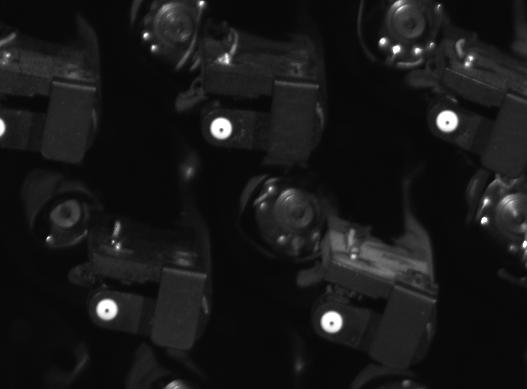fiber: (313, 303, 349, 339), (205, 113, 243, 147), (88, 294, 127, 327), (431, 107, 465, 136)
